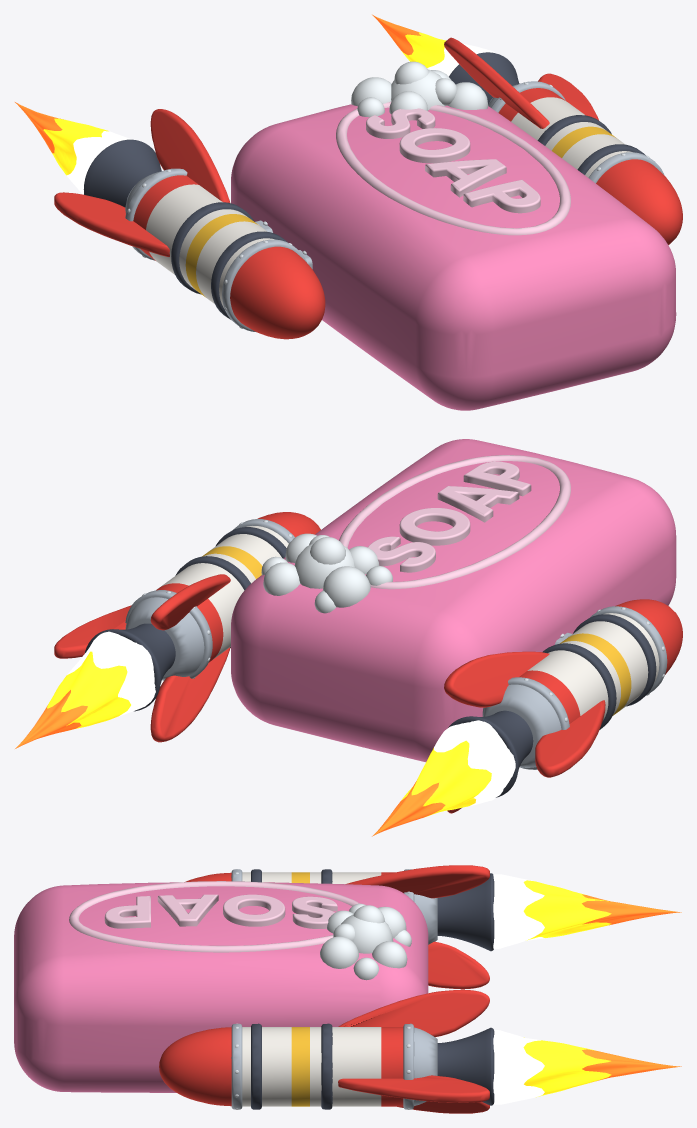
The model's file is soap-rocket-hi.glb.
The picture shows the model from 3 angles, top to bottom: view 1: azimuth 30°, elevation 25°; view 2: azimuth 150°, elevation 25°; view 3: azimuth 270°, elevation 25°; orthographic projection. The views are drawn at different scales.
Visible parts, largest first — view 1: Soap, Booster_Left, Booster_Right, Soap_Suds, Booster_Brackets, Flame_Left, Flame_Right; view 2: Soap, Booster_Left, Booster_Right, Flame_Right, Flame_Left, Soap_Suds, Booster_Brackets; view 3: Soap, Booster_Right, Booster_Left, Flame_Right, Flame_Left, Soap_Suds, Booster_Brackets.
Part boxes in pixels (<box>): Soap: <box>231,101,676,410</box>; Booster_Left: <box>54,109,325,339</box>; Booster_Right: <box>444,37,682,244</box>; Soap_Suds: <box>351,61,488,117</box>; Booster_Brackets: <box>171,115,645,319</box>; Flame_Left: <box>15,102,131,194</box>; Flame_Right: <box>372,14,494,76</box>; Soap: <box>231,439,676,762</box>; Booster_Left: <box>444,599,682,813</box>; Booster_Right: <box>54,512,320,742</box>; Flame_Right: <box>15,631,155,748</box>; Flame_Left: <box>372,720,515,836</box>; Soap_Suds: <box>261,533,392,613</box>; Booster_Brackets: <box>175,527,656,729</box>; Soap: <box>14,881,428,1092</box>; Booster_Right: <box>159,989,494,1113</box>; Booster_Left: <box>184,865,494,989</box>; Flame_Right: <box>493,1030,681,1104</box>; Flame_Left: <box>493,874,681,948</box>; Soap_Suds: <box>320,903,411,980</box>; Booster_Brackets: <box>251,869,332,1109</box>.
Size of the model in its own units: 1.25 by 0.4513 by 1.61.
